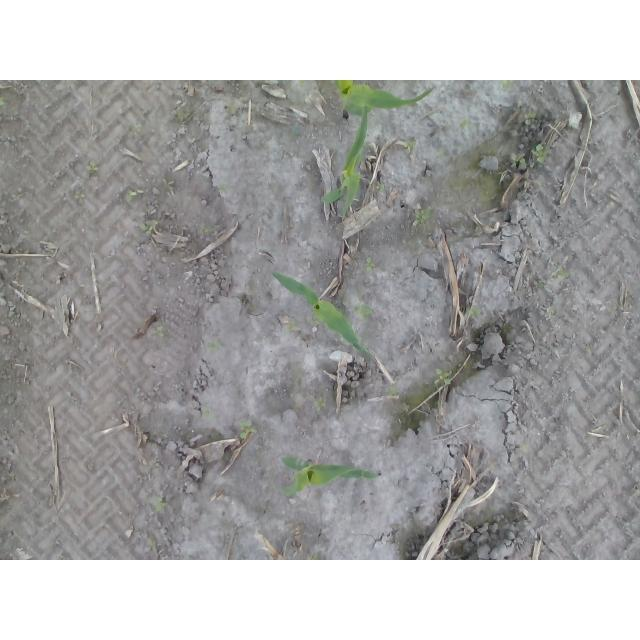Maize: (271, 271, 370, 354), (320, 105, 369, 219), (279, 454, 381, 498), (333, 81, 435, 118)
Weeds: (413, 207, 432, 225), (240, 421, 257, 438), (152, 496, 168, 514), (434, 370, 451, 386), (510, 153, 526, 170), (355, 305, 373, 320), (531, 143, 545, 161), (363, 257, 376, 272), (315, 397, 326, 412), (150, 327, 164, 338), (208, 340, 225, 349), (74, 191, 84, 206), (145, 540, 156, 553), (141, 223, 152, 235), (405, 138, 415, 150), (87, 162, 98, 172), (501, 80, 514, 88), (286, 321, 296, 331), (127, 191, 137, 201), (306, 554, 322, 560), (470, 307, 479, 317), (525, 113, 537, 120), (377, 182, 385, 192), (558, 271, 569, 277)
